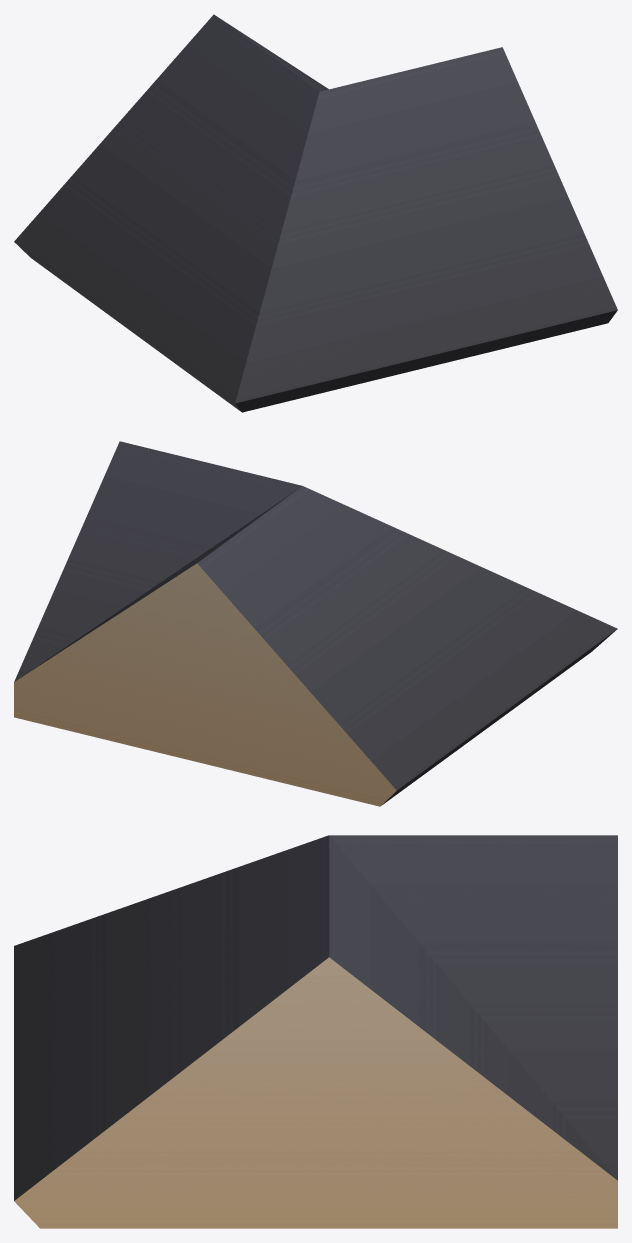
Rendered from roof-gable-corner.glb.
3 views of the same model, one above another, from view 1: azimuth 30°, elevation 25°; view 2: azimuth 150°, elevation 25°; view 3: azimuth 270°, elevation 25° (orthographic). The views are drawn at different scales.
Parts seen in each view (by area): view 1: roof-gable-corner; view 2: roof-gable-corner; view 3: roof-gable-corner.
Part boxes in pixels (box(x1,y1,x2,y2)): roof-gable-corner: box(14, 14, 617, 412); roof-gable-corner: box(14, 441, 617, 806); roof-gable-corner: box(14, 835, 617, 1228).
Size of the model in its own units: 1.05 by 0.5188 by 1.05.
Materials: 1 (1 with a texture image).
